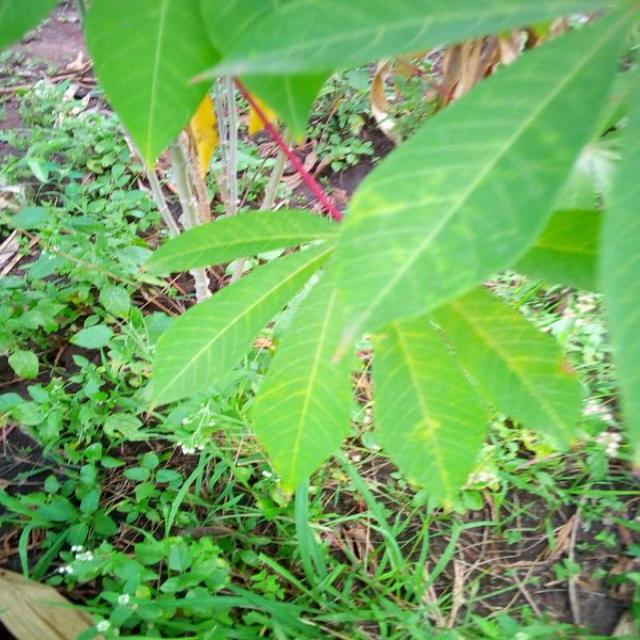cassava leaf: (249, 1, 638, 507), (368, 282, 590, 514), (141, 233, 340, 412)
